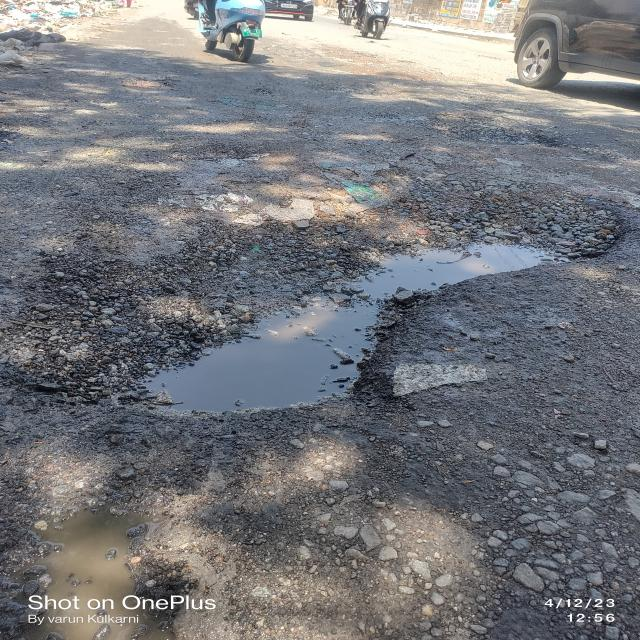Puddle pothole: (174, 185, 557, 435)
